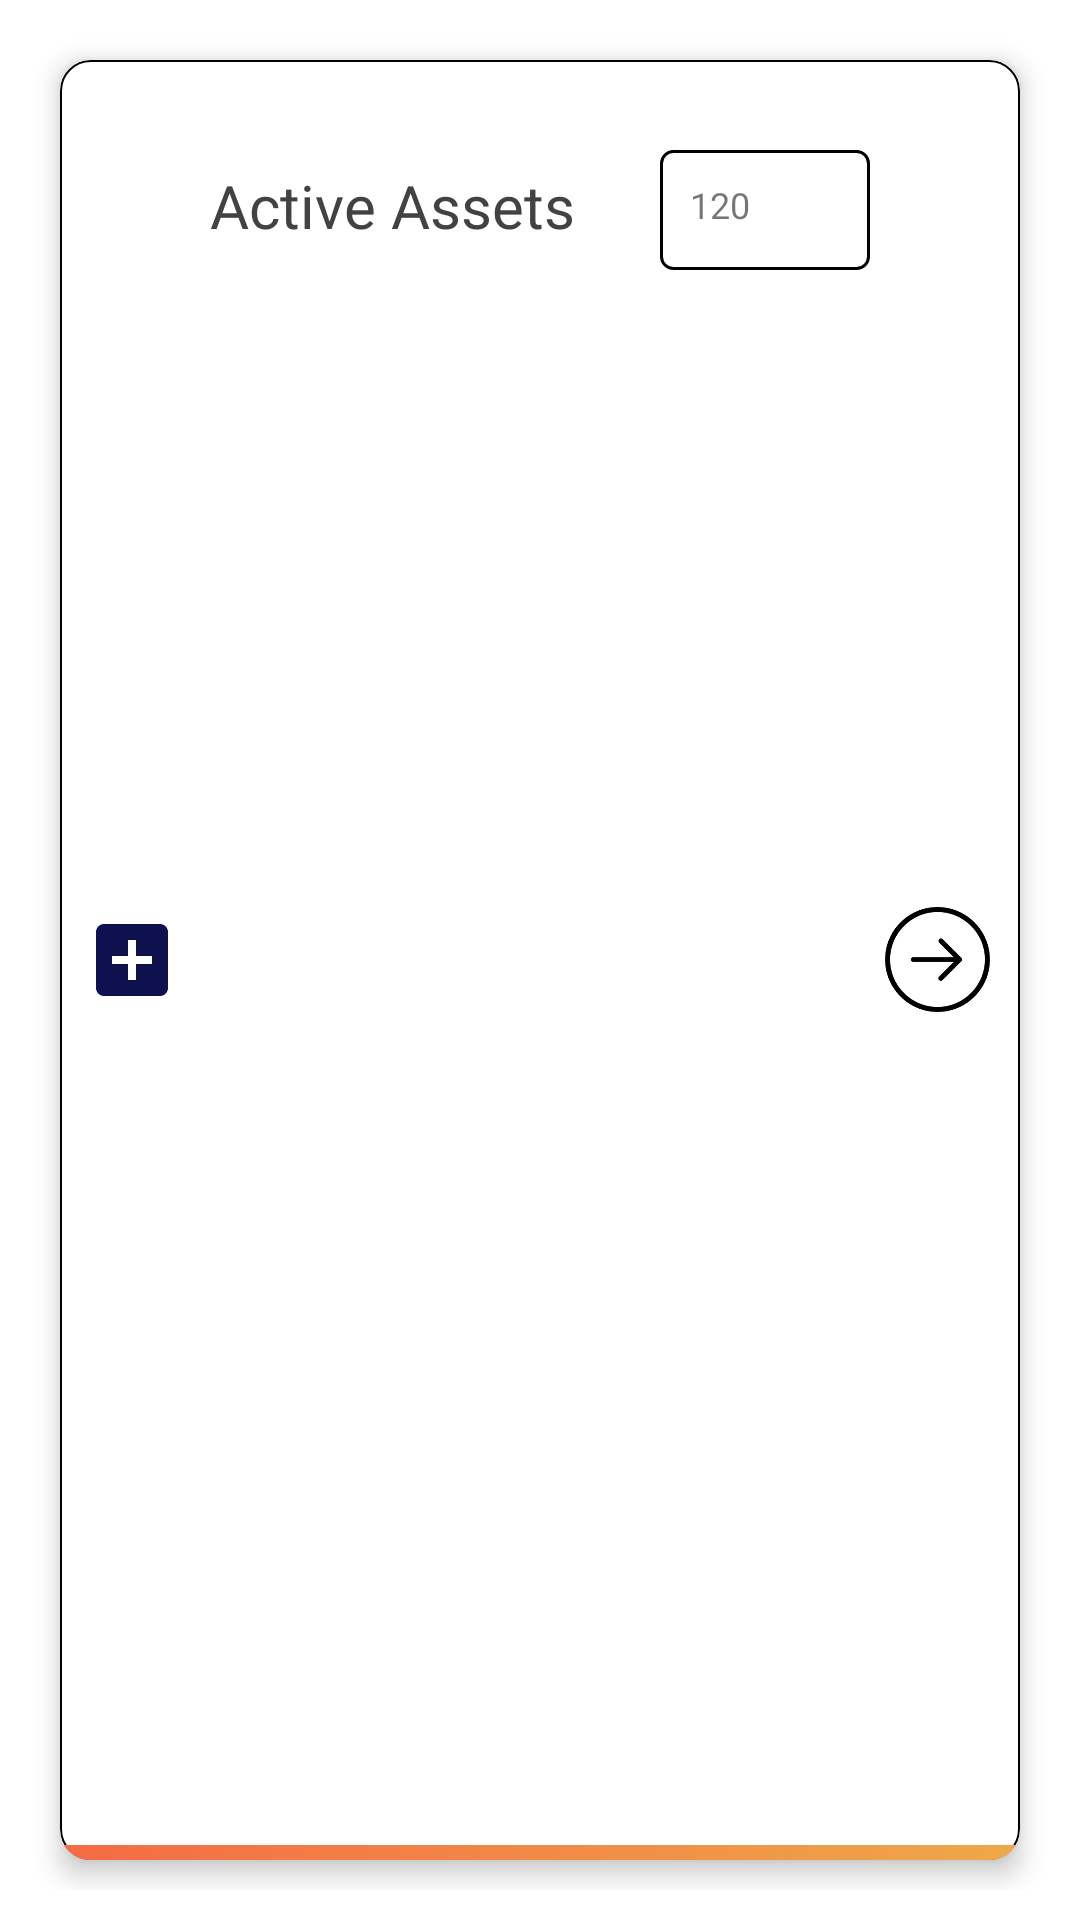

Locate icon controls on the screen. Image size 1080×1920, boxes as box(x1, y1, x2, y2).
add box: box(96, 924, 168, 996)
arrowinsidecircle: box(885, 907, 990, 1012)
